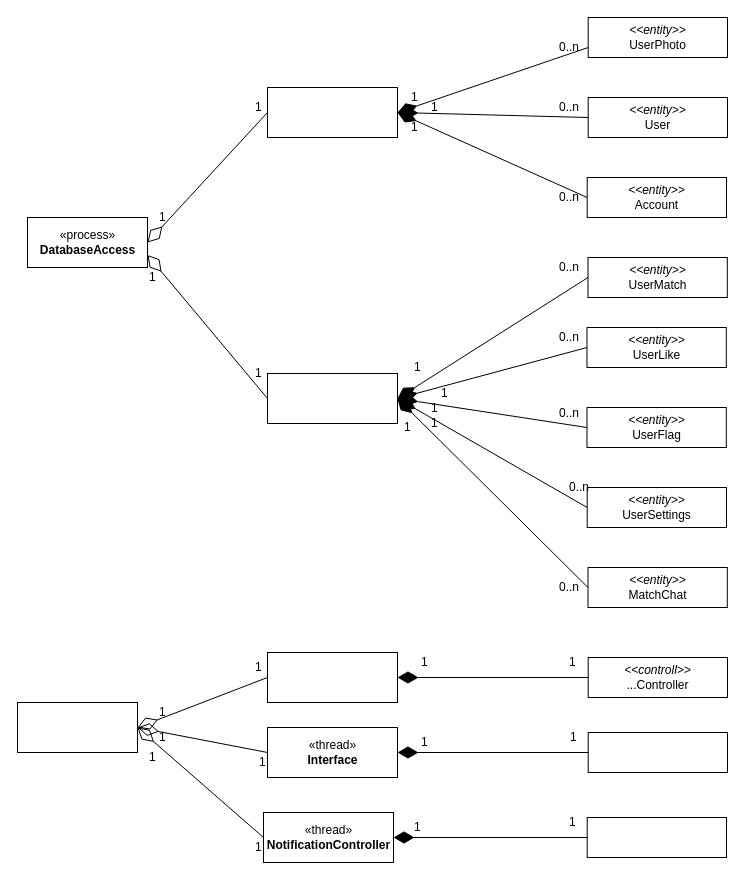
This 745x880 diagram has some shape labels left out. Here are the shapes that lost their labels. From the top down, the centre of each, then its label:
point (332, 112): «thread» PhotoCahe
point (332, 398): «thread» DataCahe
point (332, 677): «thread» Controller
point (77, 727): «process» WebApplication
point (657, 752): <<boundary>> ...Form
point (656, 837): <<service>> NotificationQueue
